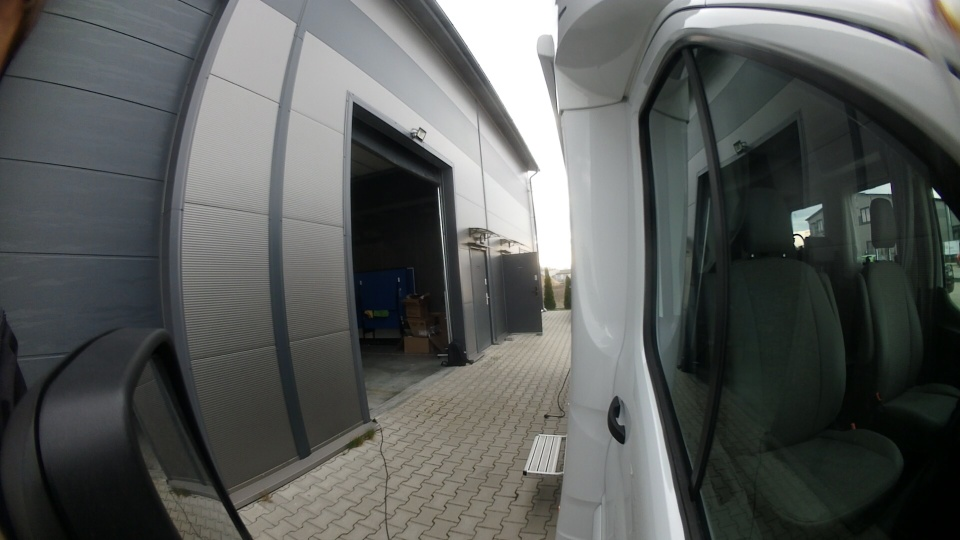step_front: (516, 427, 572, 485)
